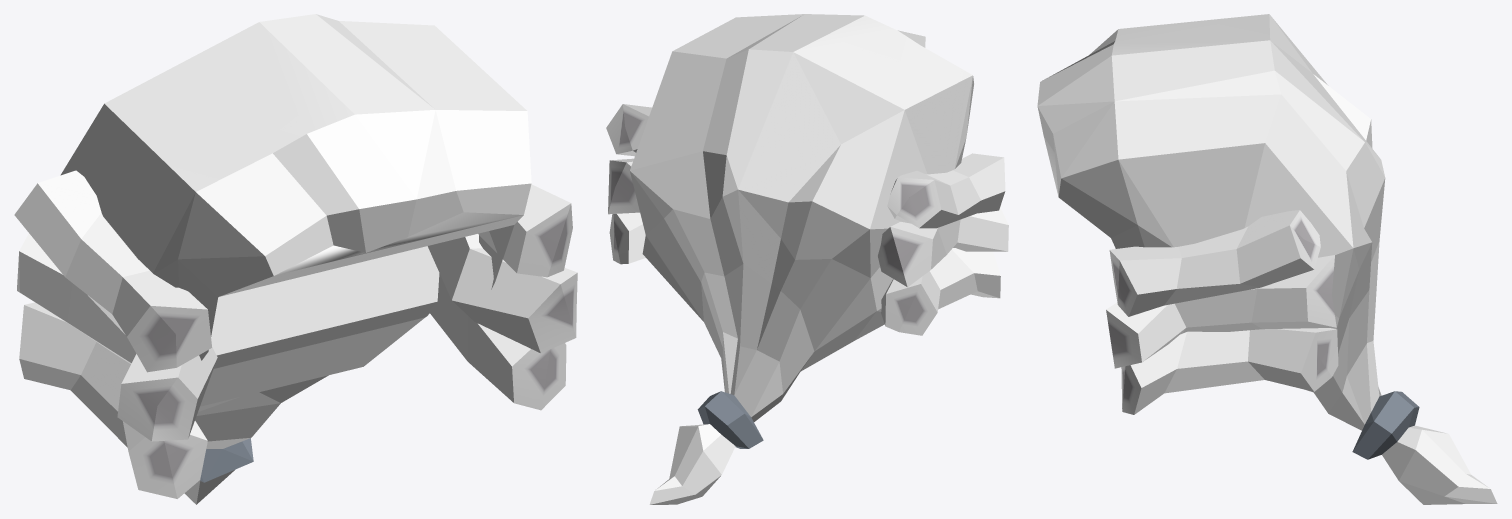
File: SM_Chr_Attach_Hair_M_02.fbx
3 renders of one model, left to right at view 1: azimuth 30°, elevation 25°; view 2: azimuth 150°, elevation 25°; view 3: azimuth 270°, elevation 25°, orthographic. The views are drawn at different scales.
Visible parts, largest first — view 1: SM_Chr_Attach_Hair_M_02; view 2: SM_Chr_Attach_Hair_M_02; view 3: SM_Chr_Attach_Hair_M_02.
Boxes of the visible parts, x1=… form: SM_Chr_Attach_Hair_M_02: x1=14, y1=14, x2=577, y2=504; SM_Chr_Attach_Hair_M_02: x1=606, y1=14, x2=1008, y2=504; SM_Chr_Attach_Hair_M_02: x1=1037, y1=14, x2=1497, y2=504.
Bounding box in the file's own units: 33.25 × 37.95 × 35.
